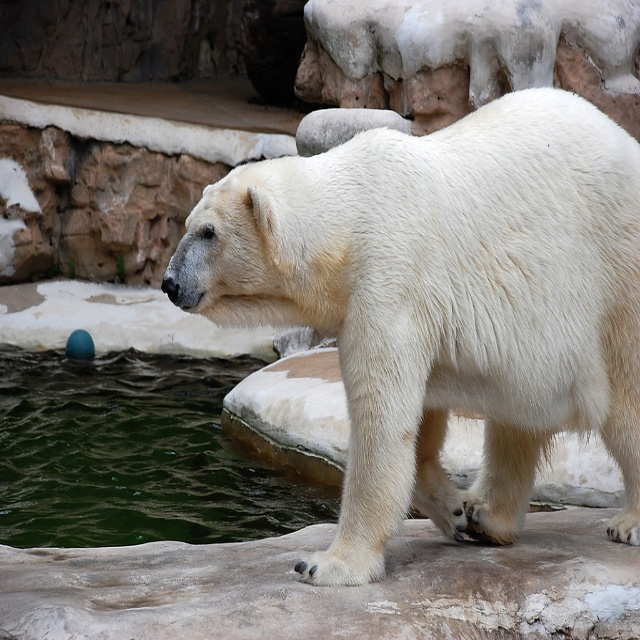Polar bear: (159, 83, 640, 590)
